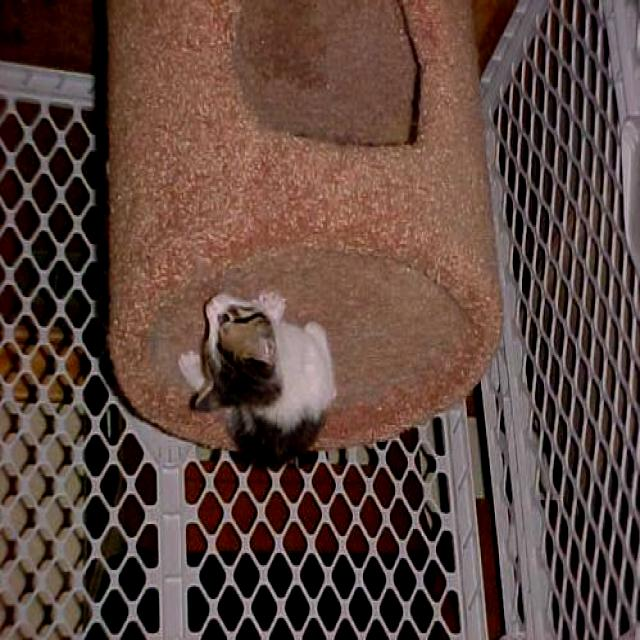Kucing: (172, 278, 380, 468)
